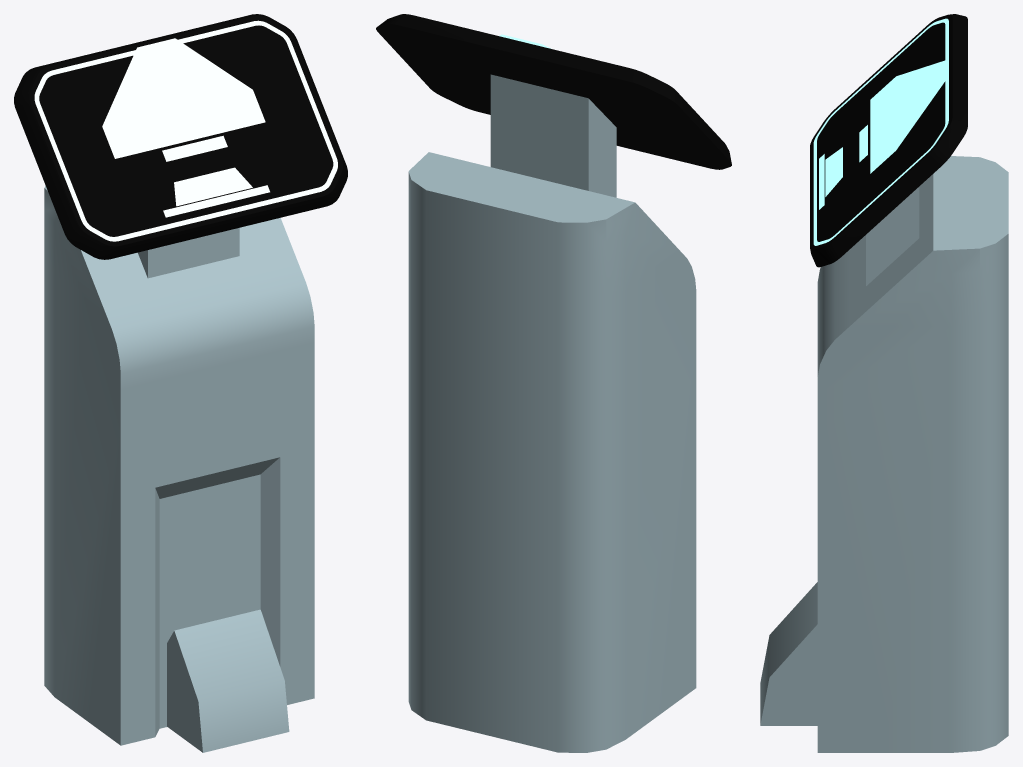
File: q-computer.gltf
3 renders of one model, left to right at view 1: azimuth 30°, elevation 25°; view 2: azimuth 150°, elevation 25°; view 3: azimuth 270°, elevation 25°, orthographic. The views are drawn at different scales.
Parts seen in each view (by area): view 1: Prop_Computer; view 2: Prop_Computer; view 3: Prop_Computer.
Boxes of the visible parts, x1,y1,x2,y2 form: Prop_Computer: (14,14,347,752); Prop_Computer: (376,14,731,752); Prop_Computer: (760,14,1008,752).
Bounding box in the file's own units: 0.7434 × 1.59 × 0.5625.
